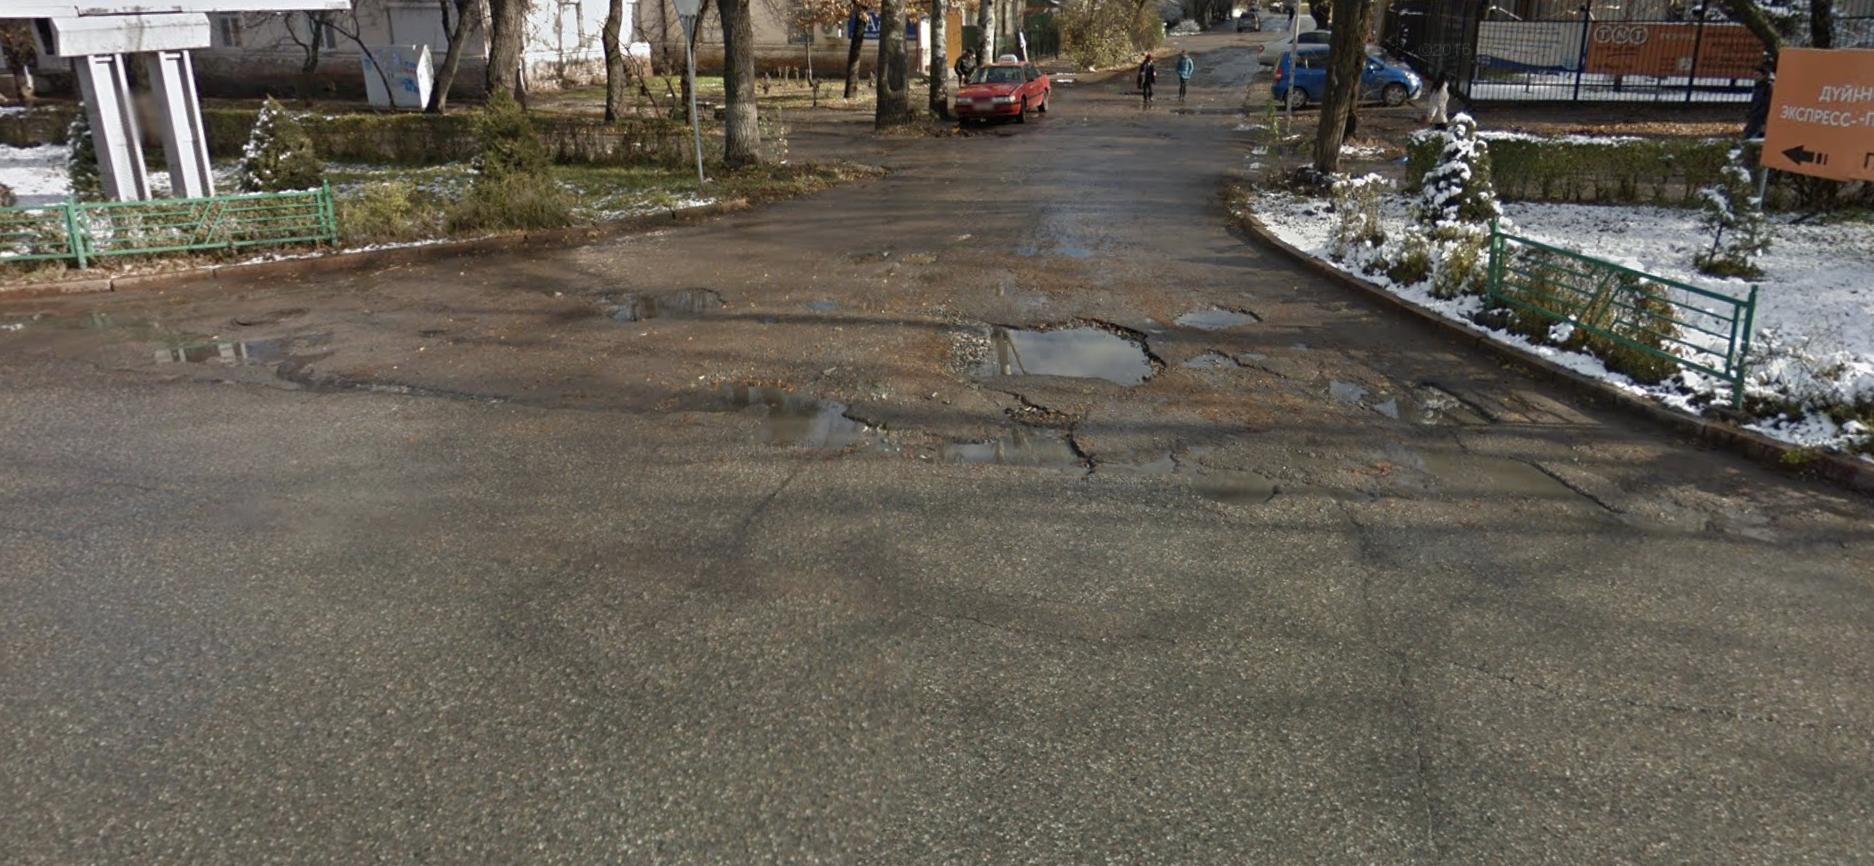alligator_crack: (106, 302, 360, 430), (950, 300, 1174, 402), (682, 362, 902, 466), (932, 406, 1124, 506), (1322, 358, 1502, 442), (1160, 432, 1296, 522), (1154, 292, 1268, 352), (1176, 346, 1308, 392)
